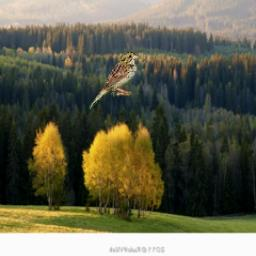Sparrow: (90, 50, 141, 110)
